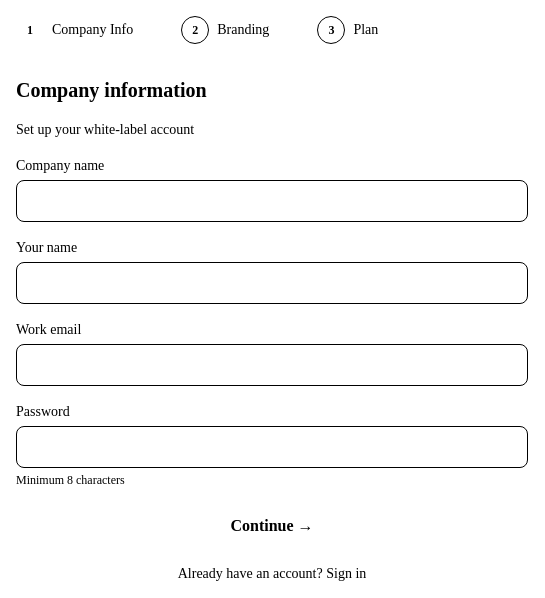
Test: WLSignupPage › progresses to step 2 on valid step 1
In the field below "Company name": (272, 201) [16,180,528,222], type "Acme Corp"
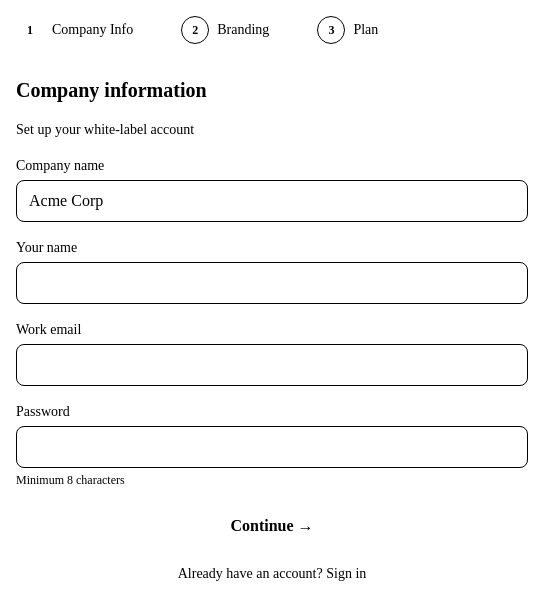
In the field below "Your name": (272, 283) [16,262,528,304], type "Jane Smith"
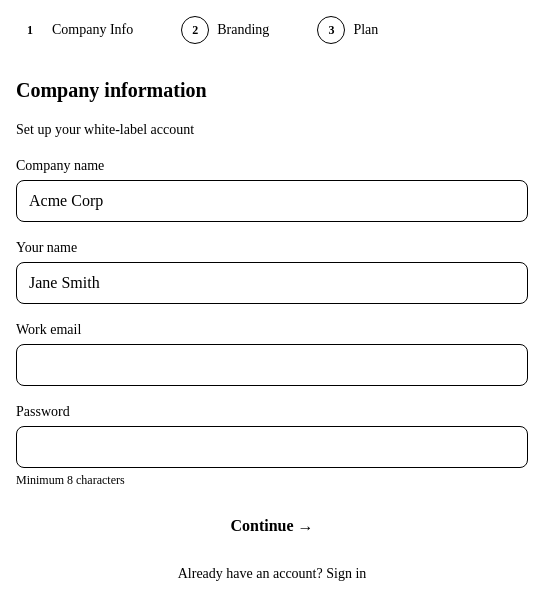
In the field below "Work email": (272, 365) [16,344,528,386], type "jane@acme.com"
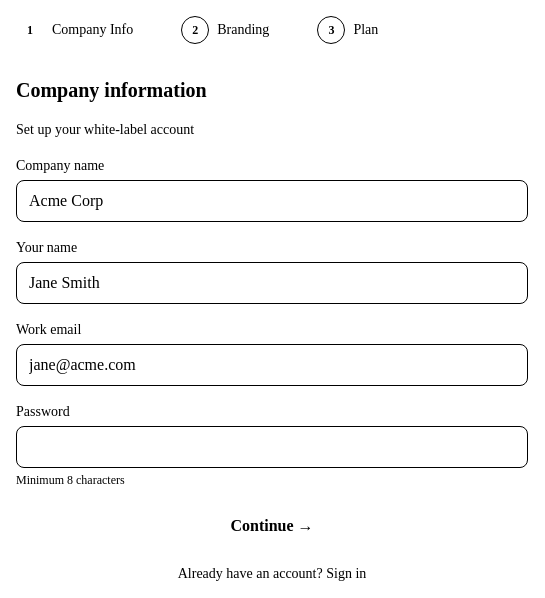
In the password field: (272, 447) [16,426,528,468], type "validpassword123"
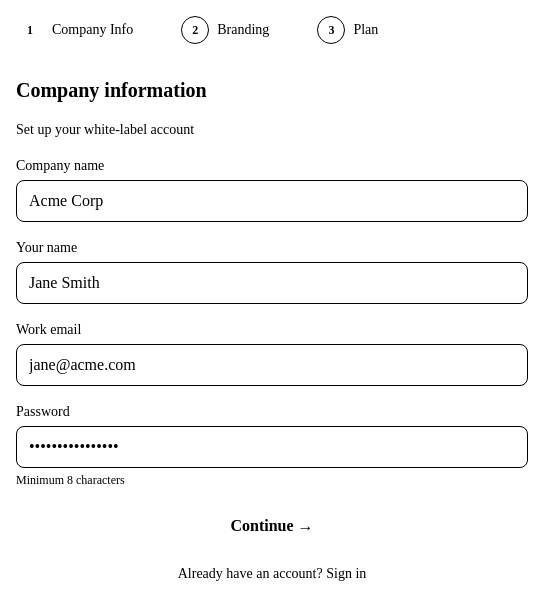
Click the button "Continue →": (272, 526) [16,504,528,548]
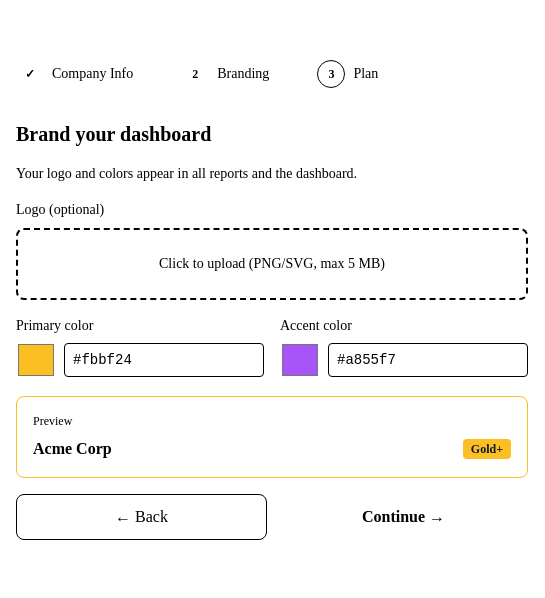
Result: the heading "Brand your dashboard" is shown at [16,123,211,145]
